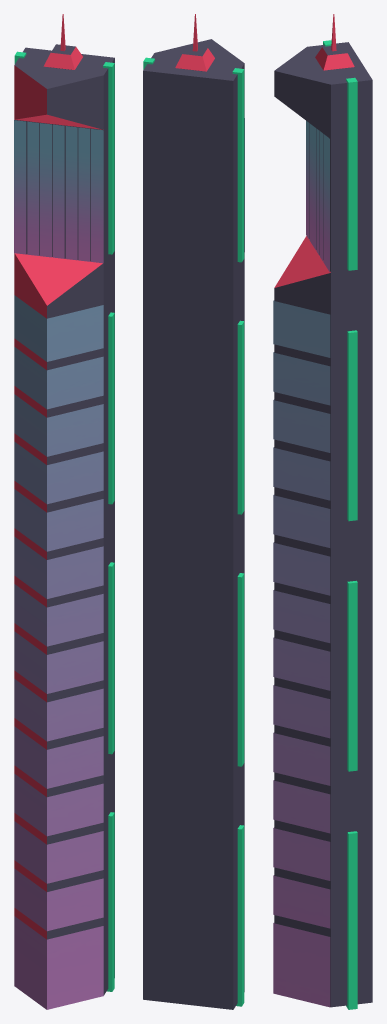
File: CbpBuild F.fbx
3 views of the same model, side by side, from view 1: azimuth 30°, elevation 25°; view 2: azimuth 210°, elevation 25°; view 3: azimuth 330°, elevation 25° (orthographic).
Visible parts, largest first — view 1: CbpBuild F; view 2: CbpBuild F; view 3: CbpBuild F.
Part boxes in pixels (bbox=[...]): CbpBuild F: bbox=[14, 14, 114, 1009]; CbpBuild F: bbox=[143, 14, 244, 1009]; CbpBuild F: bbox=[273, 14, 372, 1009].
Size of the model in its own units: 10.11 by 112 by 10.11.
